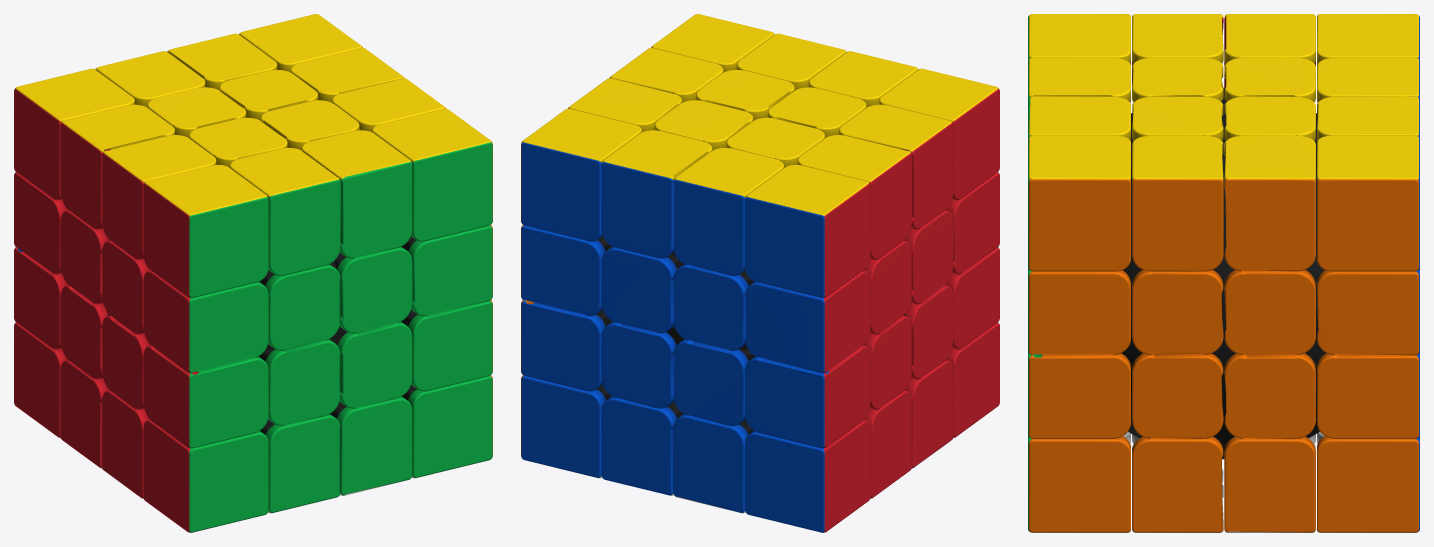
3 renders of one model, left to right at view 1: azimuth 30°, elevation 25°; view 2: azimuth 150°, elevation 25°; view 3: azimuth 270°, elevation 25°, orthographic. The views are drawn at different scales.
Parts seen in each view (by area): view 1: piece_-1.5,1.5,1.5, piece_-1.5,-1.5,1.5, piece_1.5,1.5,1.5, piece_-1.5,-0.5,1.5, piece_-1.5,0.5,1.5, piece_0.5,1.5,1.5, piece_-0.5,1.5,1.5, piece_-1.5,1.5,-1.5, piece_1.5,-1.5,1.5, piece_-1.5,1.5,-0.5, piece_-1.5,1.5,0.5, piece_0.5,-1.5,1.5 (+25 smaller); view 2: piece_-1.5,1.5,-1.5, piece_-1.5,-1.5,-1.5, piece_1.5,1.5,-1.5, piece_-1.5,-0.5,-1.5, piece_-1.5,0.5,-1.5, piece_0.5,1.5,-1.5, piece_-0.5,1.5,-1.5, piece_-1.5,1.5,1.5, piece_1.5,-1.5,-1.5, piece_-1.5,1.5,0.5, piece_-1.5,1.5,-0.5, piece_0.5,-1.5,-1.5 (+25 smaller); view 3: piece_1.5,1.5,-1.5, piece_1.5,1.5,1.5, piece_1.5,1.5,0.5, piece_1.5,1.5,-0.5, piece_1.5,-1.5,1.5, piece_1.5,-1.5,-1.5, piece_1.5,-1.5,-0.5, piece_1.5,-0.5,1.5, piece_1.5,-0.5,-1.5, piece_1.5,-1.5,0.5, piece_1.5,0.5,-1.5, piece_1.5,0.5,1.5 (+17 smaller).
Part boxes in pixels (box(x1,y1,x2,y2)): piece_-1.5,1.5,1.5: box(143, 164, 268, 297); piece_-1.5,-1.5,1.5: box(143, 420, 268, 532); piece_1.5,1.5,1.5: box(372, 108, 492, 241); piece_-1.5,-0.5,1.5: box(143, 345, 268, 448); piece_-1.5,0.5,1.5: box(143, 270, 268, 373); piece_0.5,1.5,1.5: box(301, 130, 412, 258); piece_-0.5,1.5,1.5: box(229, 147, 340, 275); piece_-1.5,1.5,-1.5: box(14, 68, 134, 200); piece_1.5,-1.5,1.5: box(402, 375, 492, 478); piece_-1.5,1.5,-0.5: box(60, 104, 174, 229); piece_-1.5,1.5,0.5: box(102, 135, 216, 259); piece_0.5,-1.5,1.5: box(330, 396, 412, 495); piece_-1.5,1.5,-1.5: box(745, 164, 870, 297); piece_-1.5,-1.5,-1.5: box(745, 420, 870, 532); piece_1.5,1.5,-1.5: box(521, 108, 641, 241); piece_-1.5,-0.5,-1.5: box(745, 345, 870, 448); piece_-1.5,0.5,-1.5: box(745, 270, 870, 373); piece_0.5,1.5,-1.5: box(601, 130, 712, 258); piece_-0.5,1.5,-1.5: box(673, 147, 784, 275); piece_-1.5,1.5,1.5: box(879, 68, 999, 200); piece_1.5,-1.5,-1.5: box(521, 375, 611, 478); piece_-1.5,1.5,0.5: box(839, 104, 953, 229); piece_-1.5,1.5,-0.5: box(797, 135, 911, 259); piece_0.5,-1.5,-1.5: box(601, 396, 683, 495); piece_1.5,1.5,-1.5: box(1317, 135, 1419, 271); piece_1.5,1.5,1.5: box(1028, 135, 1130, 271); piece_1.5,1.5,0.5: box(1132, 135, 1223, 271); piece_1.5,1.5,-0.5: box(1224, 135, 1315, 271); piece_1.5,-1.5,1.5: box(1028, 436, 1130, 532); piece_1.5,-1.5,-1.5: box(1317, 436, 1419, 532); piece_1.5,-1.5,-0.5: box(1224, 435, 1315, 532); piece_1.5,-0.5,1.5: box(1028, 353, 1130, 438); piece_1.5,-0.5,-1.5: box(1317, 353, 1419, 438); piece_1.5,-1.5,0.5: box(1132, 435, 1223, 532); piece_1.5,0.5,-1.5: box(1317, 269, 1419, 355); piece_1.5,0.5,1.5: box(1028, 269, 1130, 354).
Bounding box in the file's own units: 2 × 2 × 2.
